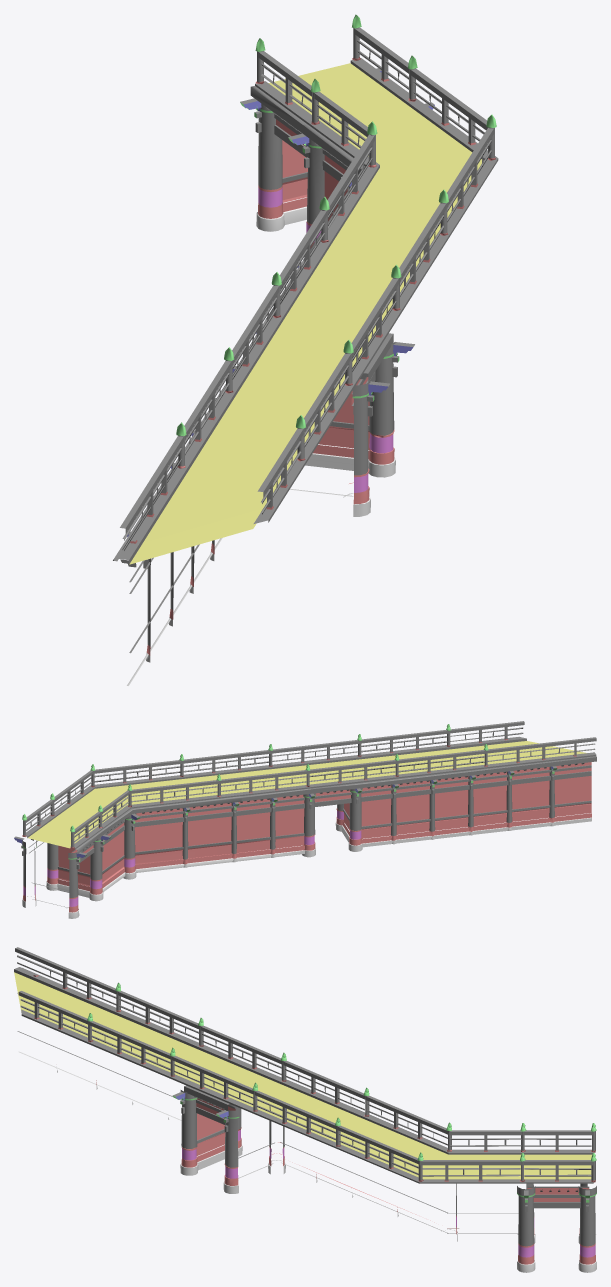
File: SM_ENV_LKNVLD_WallSet_Bend_Lod2.gltf
The picture shows the model from 3 angles, top to bottom: view 1: azimuth 30°, elevation 25°; view 2: azimuth 150°, elevation 25°; view 3: azimuth 270°, elevation 25°; orthographic projection. The views are drawn at different scales.
Parts seen in each view (by area): view 1: SM_ENV_LKNVLD_WallSet_Bend_Lod2; view 2: SM_ENV_LKNVLD_WallSet_Bend_Lod2; view 3: SM_ENV_LKNVLD_WallSet_Bend_Lod2.
Part boxes in pixels (x1=…): SM_ENV_LKNVLD_WallSet_Bend_Lod2: x1=113, y1=14, x2=498, y2=685; SM_ENV_LKNVLD_WallSet_Bend_Lod2: x1=14, y1=721, x2=596, y2=918; SM_ENV_LKNVLD_WallSet_Bend_Lod2: x1=14, y1=947, x2=596, y2=1272.
Size of the model in its own units: 33.93 by 8.37 by 37.58.
